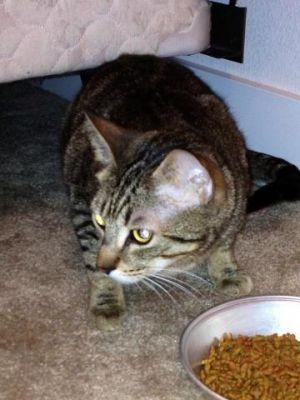bengal: (77, 105, 227, 301)
